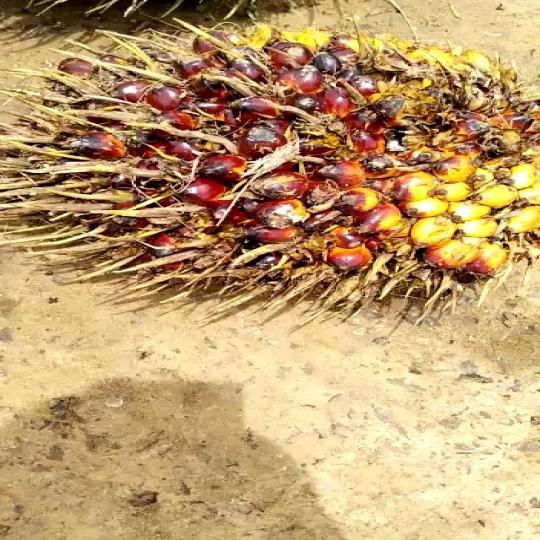masak: (0, 21, 540, 302)
